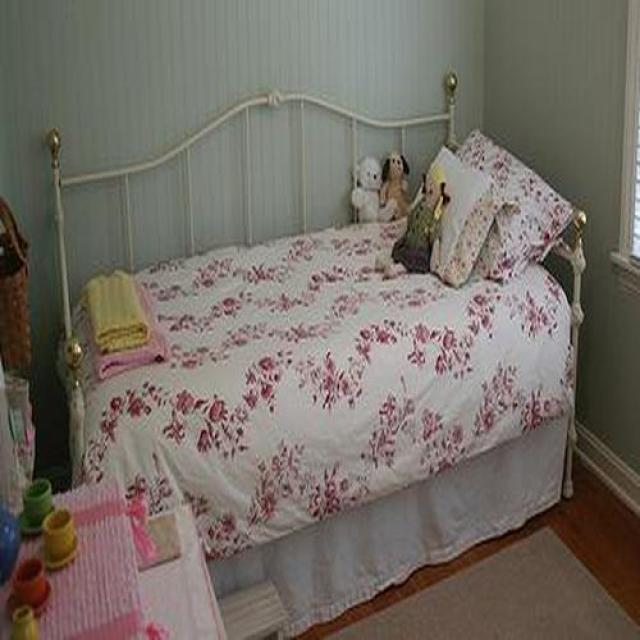bed: (49, 91, 584, 640)
